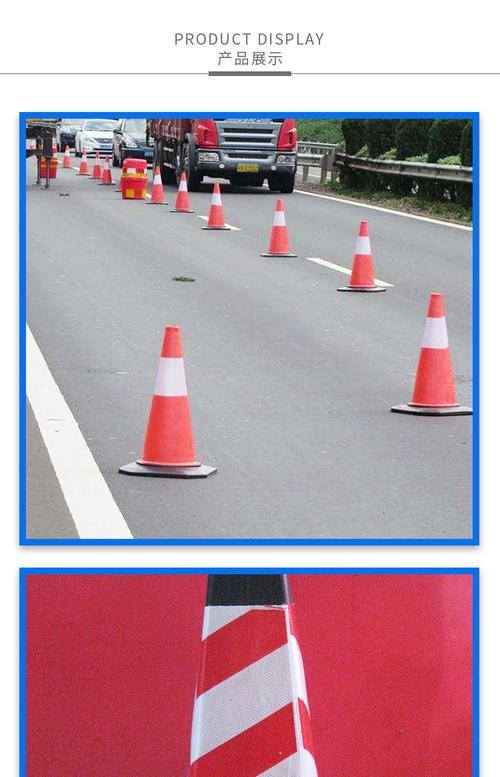cone_barrel: (178, 577, 327, 771), (126, 325, 207, 479), (396, 294, 466, 414), (340, 219, 384, 293), (259, 197, 296, 257), (201, 178, 230, 229), (172, 167, 192, 214), (145, 162, 165, 204), (100, 154, 113, 184), (76, 154, 89, 175), (60, 144, 71, 167)
